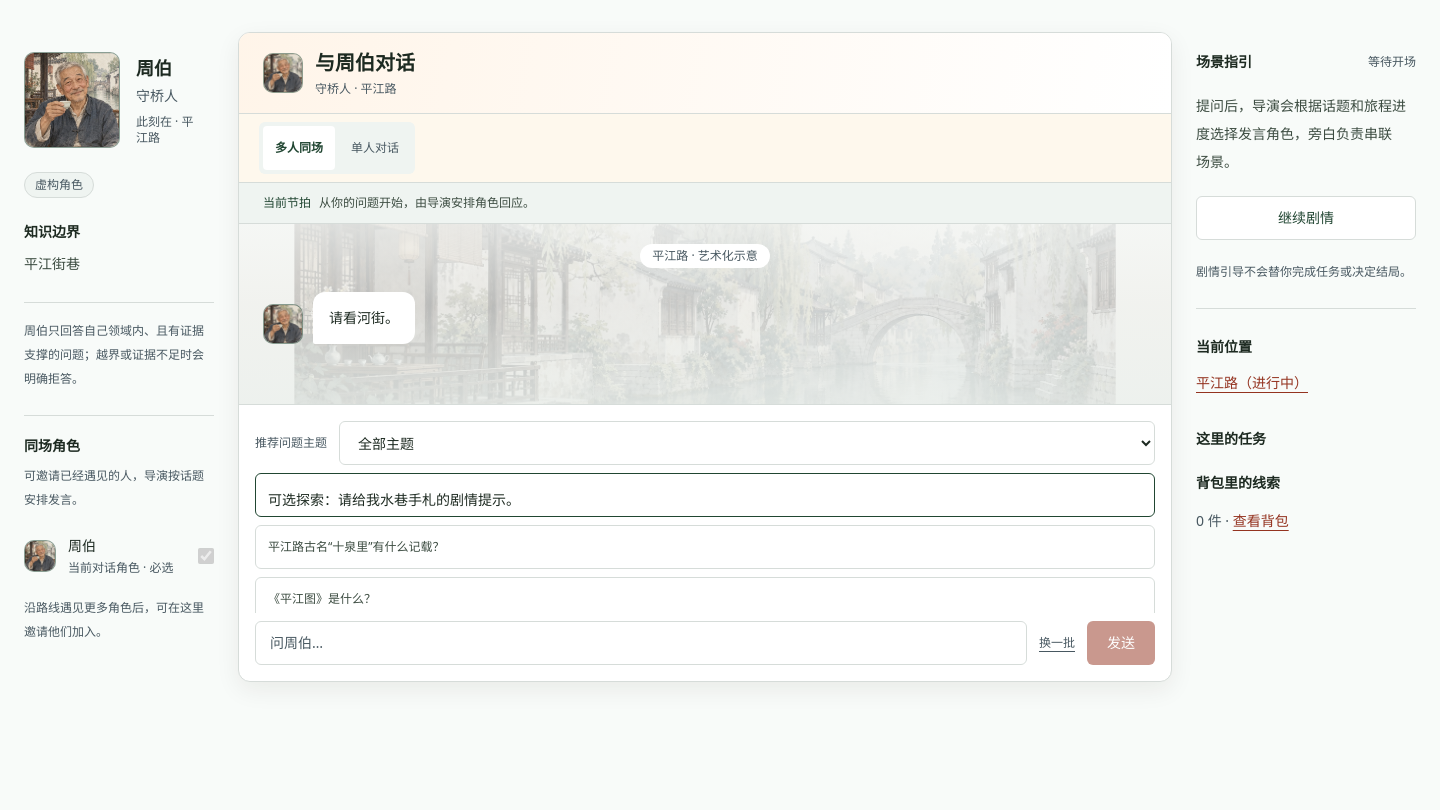
Test: 主题筛选与 GitHub 探索提示同时可用
The width and height of the screenshot is (1440, 810).
Expected: the button "《平江图》是什么？" is shown, [255,577,1155,613]
Select "史实辨析" in the dropdown labelled "推荐问题主题". click: (747, 443)
box: [339,421,1155,465]
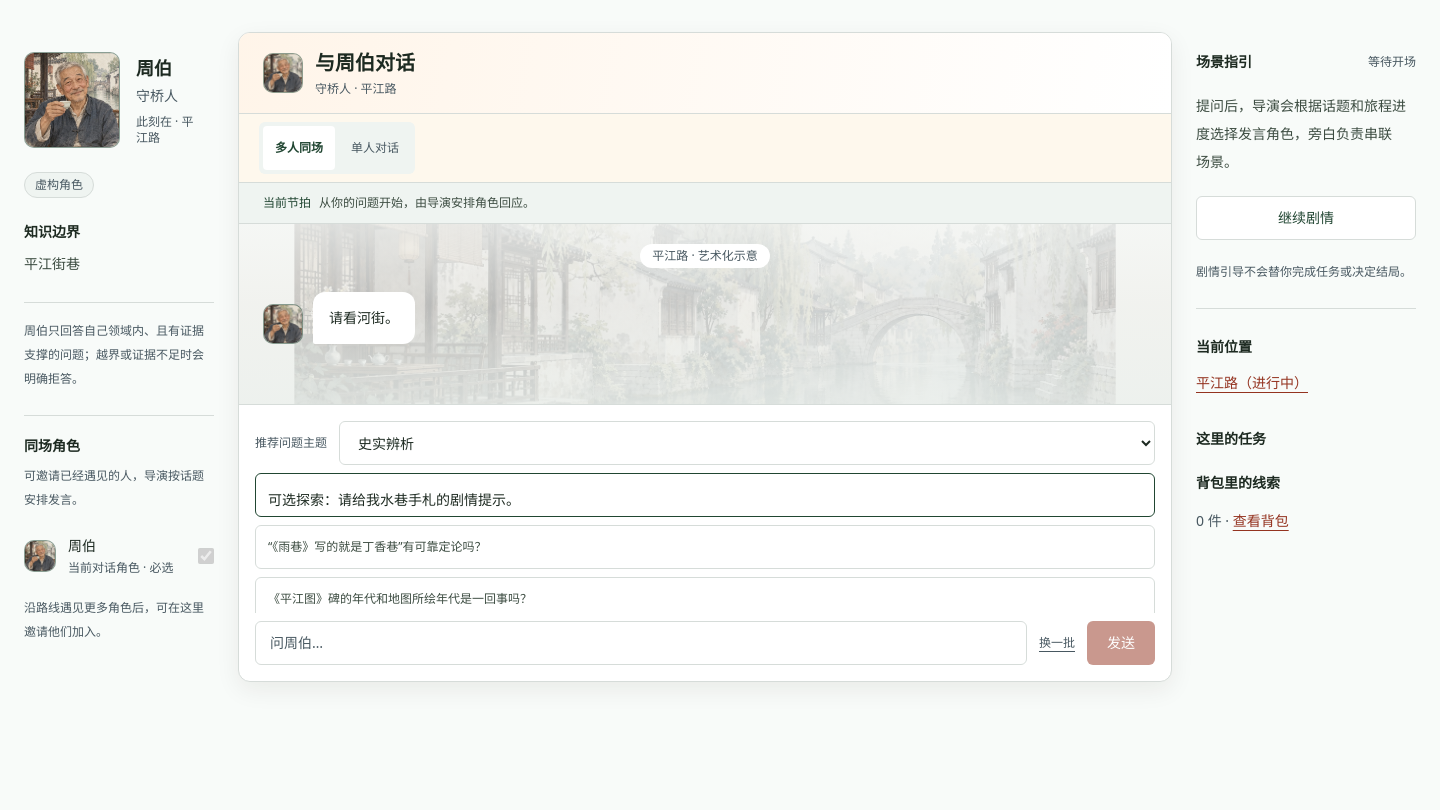
Expected: the button "可选探索：请给我水巷手札的剧情提示。" is shown, [255,473,1155,517]
Result: the button "“《雨巷》写的就是丁香巷”有可靠定论吗？" is shown at [255,525,1155,569]
Result: the button "《平江图》是什么？" is gone
